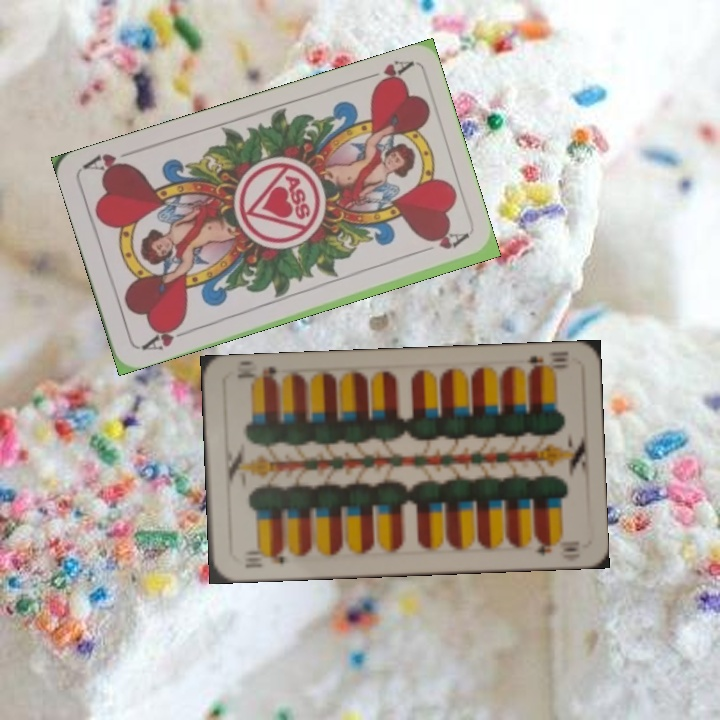E10: (515, 351, 571, 376), (240, 545, 287, 571)
HA: (356, 56, 414, 92), (137, 318, 194, 353)
